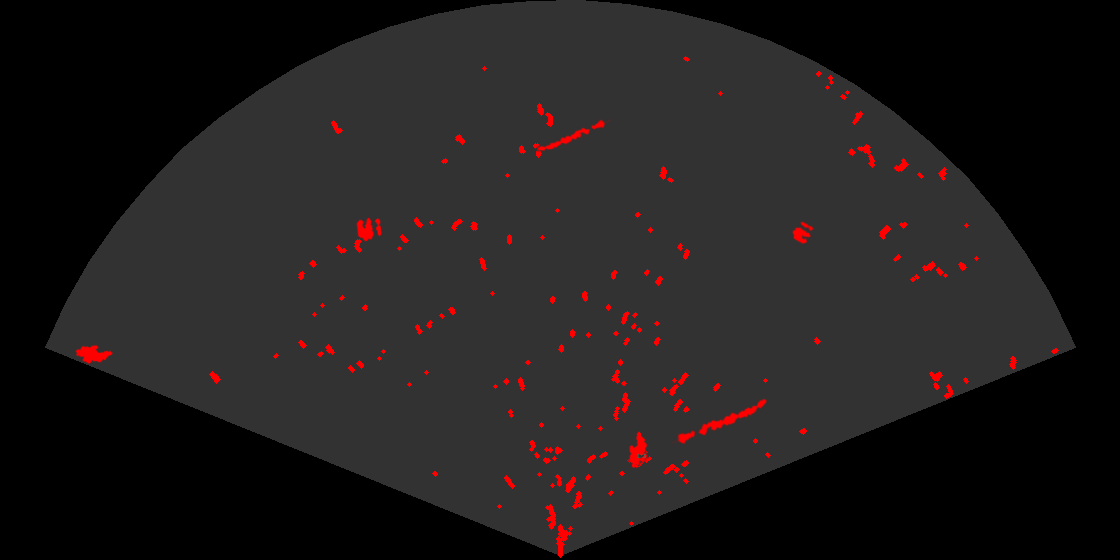AUV: (74, 344, 115, 366), (627, 430, 649, 470)
ball: (355, 216, 383, 243), (791, 220, 815, 246)
chain: (672, 397, 769, 446), (534, 118, 611, 153)
